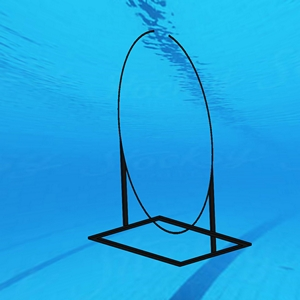circle: (86, 30, 255, 270)
